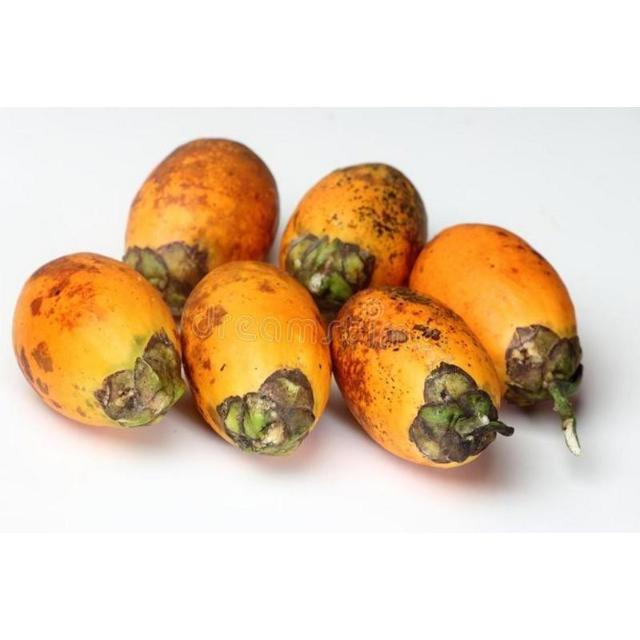good: (409, 223, 582, 421), (329, 288, 512, 471), (11, 253, 190, 431), (176, 261, 332, 459), (123, 138, 281, 319), (283, 163, 429, 321)
